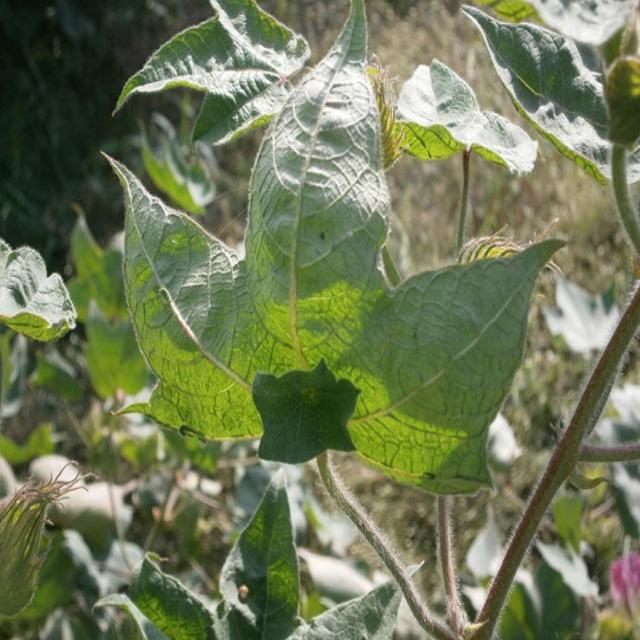Leaf Curl Virus: (175, 104, 428, 448)
